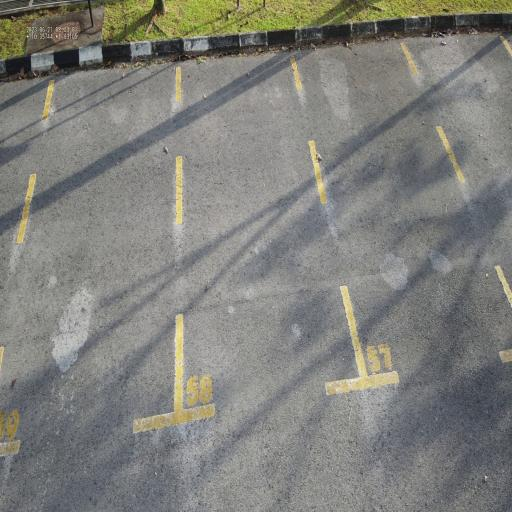Empty: (172, 49, 372, 430)
